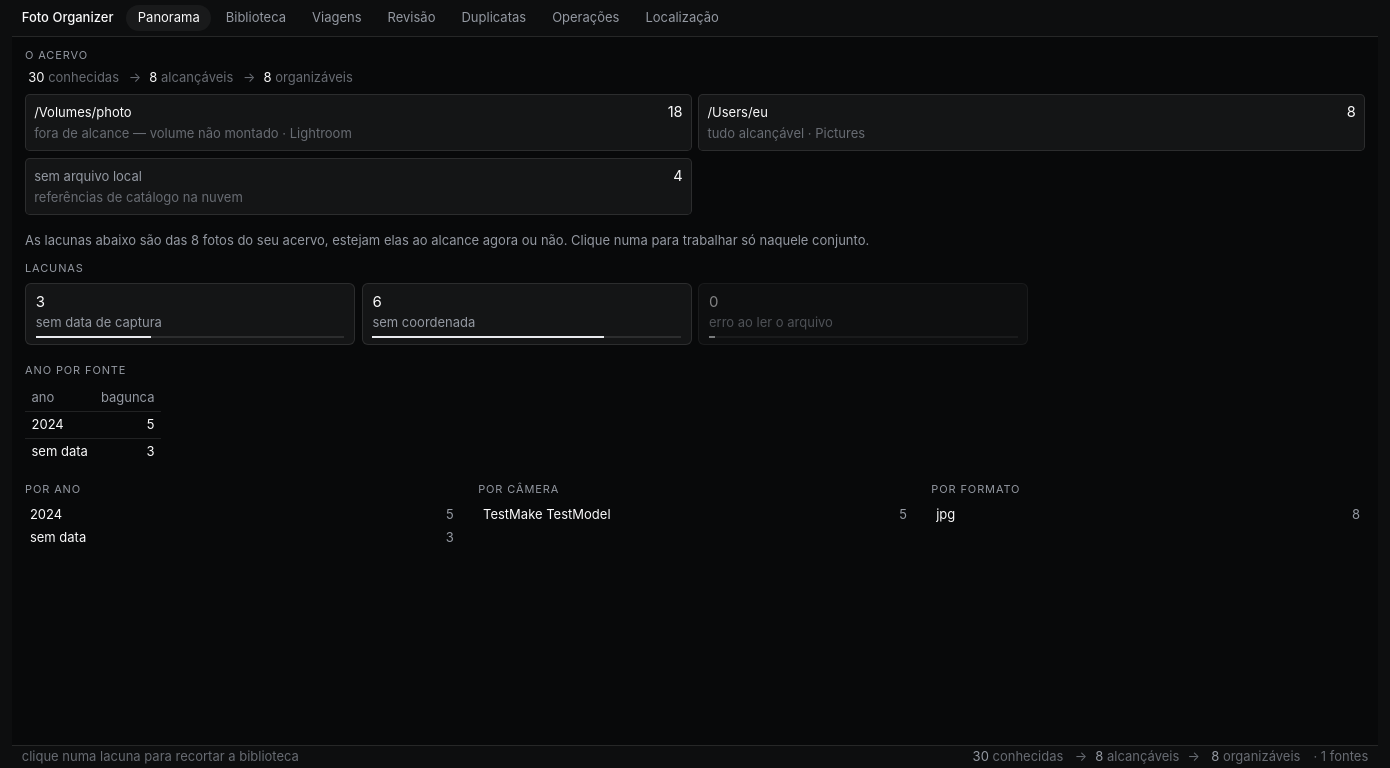
Test: App › cada aba renderiza sem quebrar, e o inspetor não invade as sem grade
Expected: the text "sem data de captura" is shown, [36,314,162,330]
Click the button "Viagens" at point(337, 18), box [301,5,373,31]
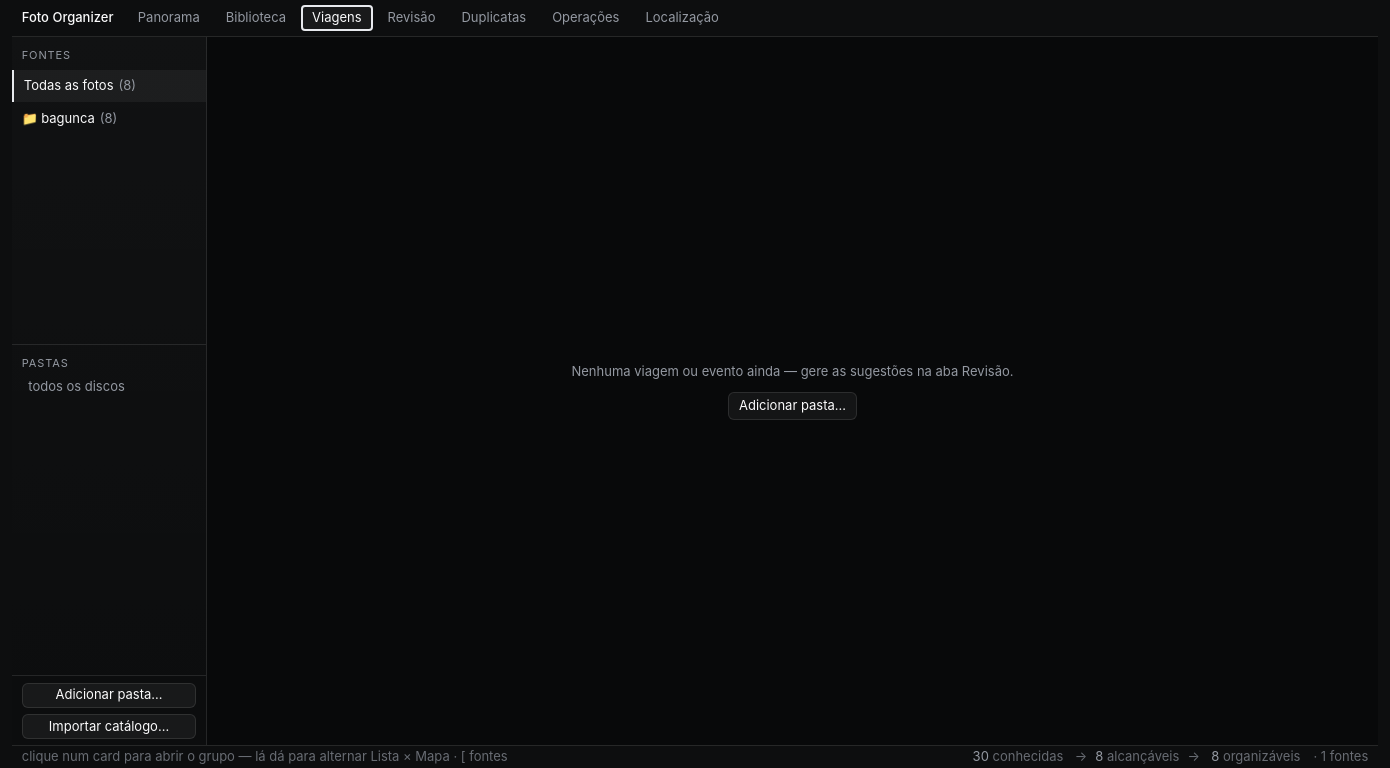
Result: the text "Nenhuma viagem" is shown at [572,363,1014,379]
Click the button "Revisão" at point(412, 18), box [376,5,447,31]
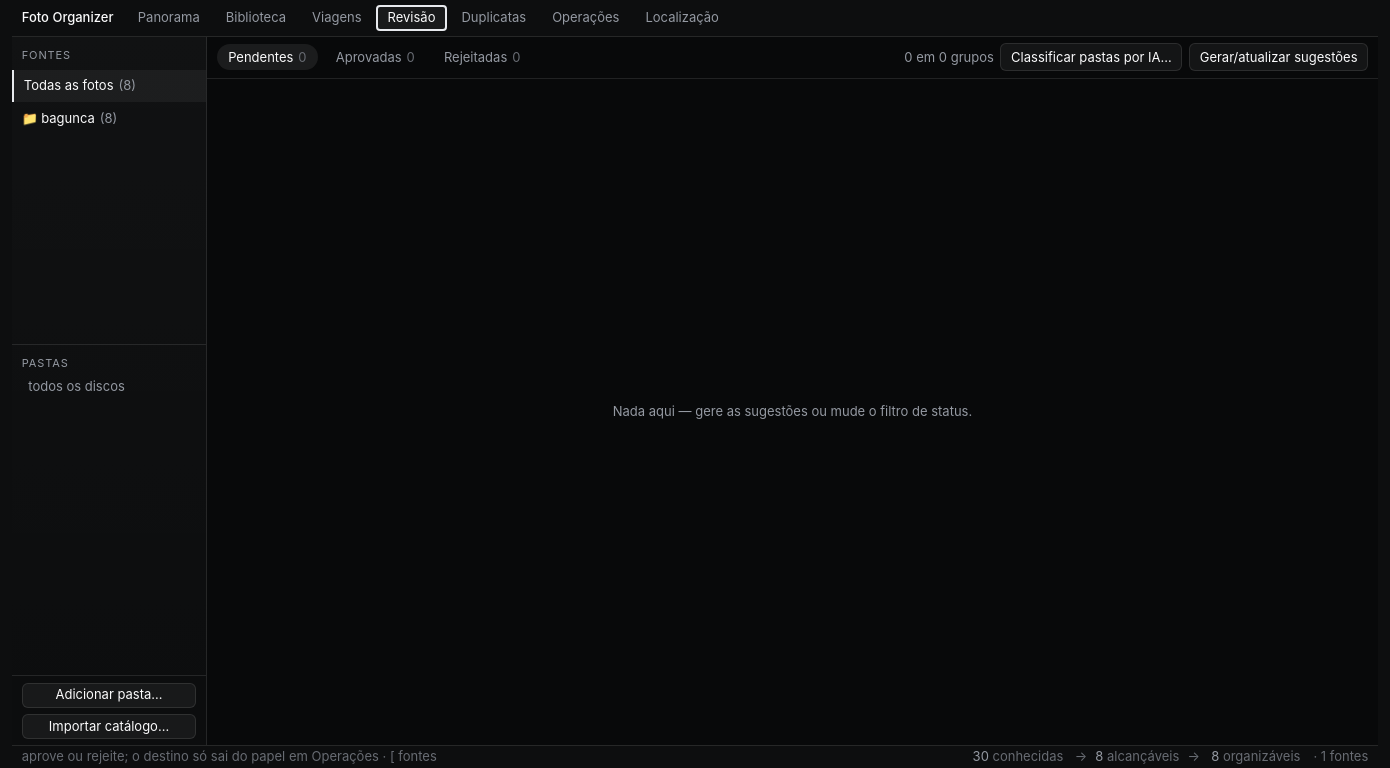
Result: the text "Nada aqui" is shown at [613,403,972,419]
Click the button "Duplicatas" at point(494, 18), box [450,5,538,31]
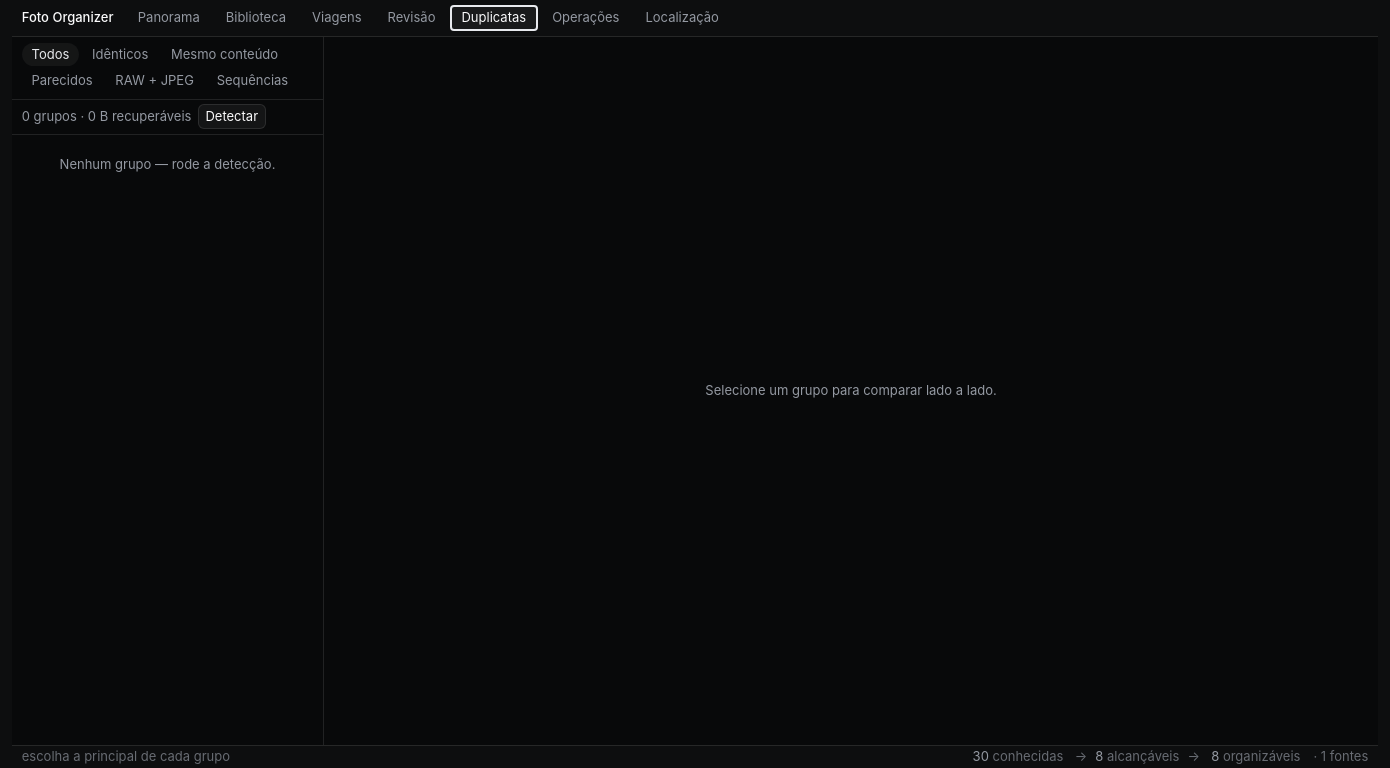
Result: the text "Nenhum grupo" is shown at [60,156,275,172]
Click the button "Operações" at point(586, 18), box [541,5,631,31]
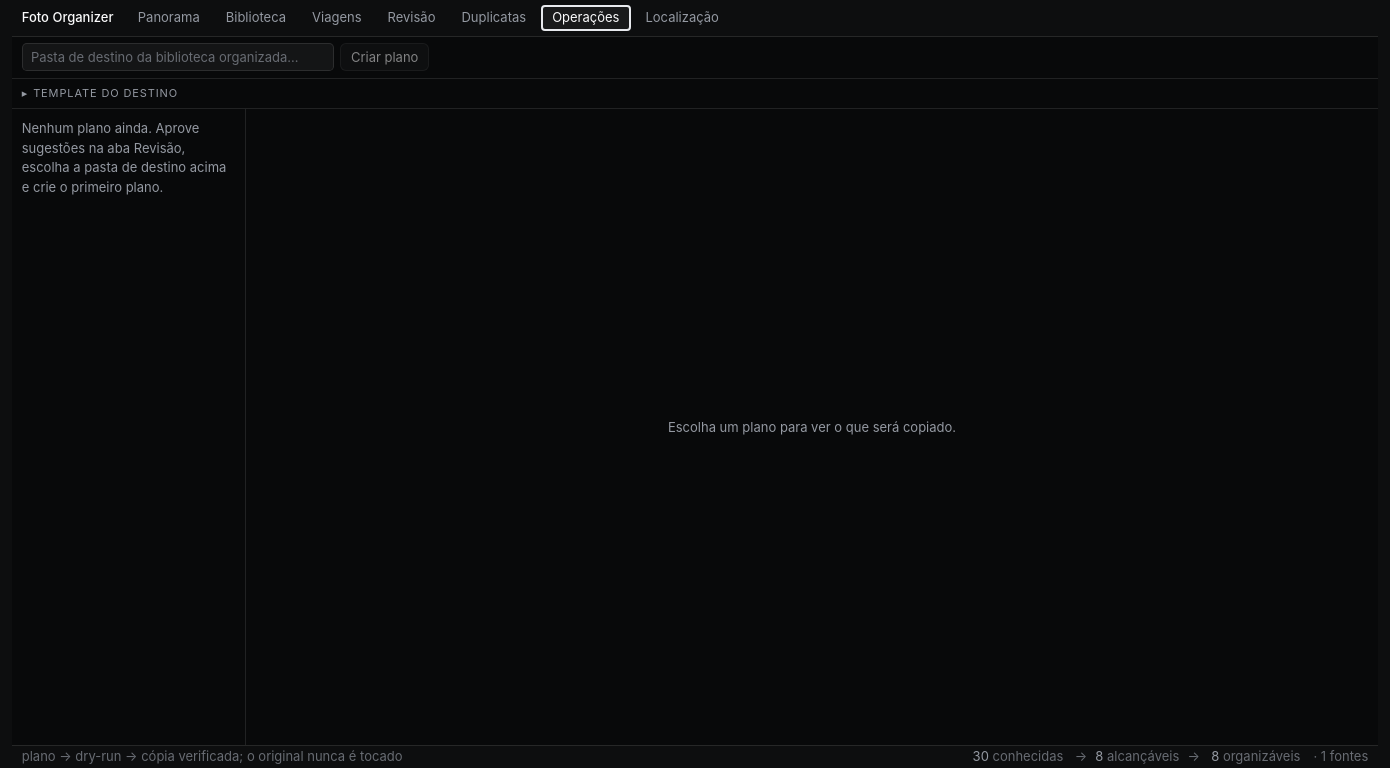
Result: the text "Nenhum plano ainda." is shown at [22,120,226,194]
